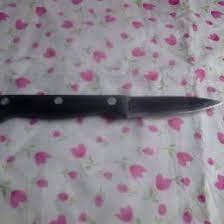knives: (1, 36, 224, 143)
